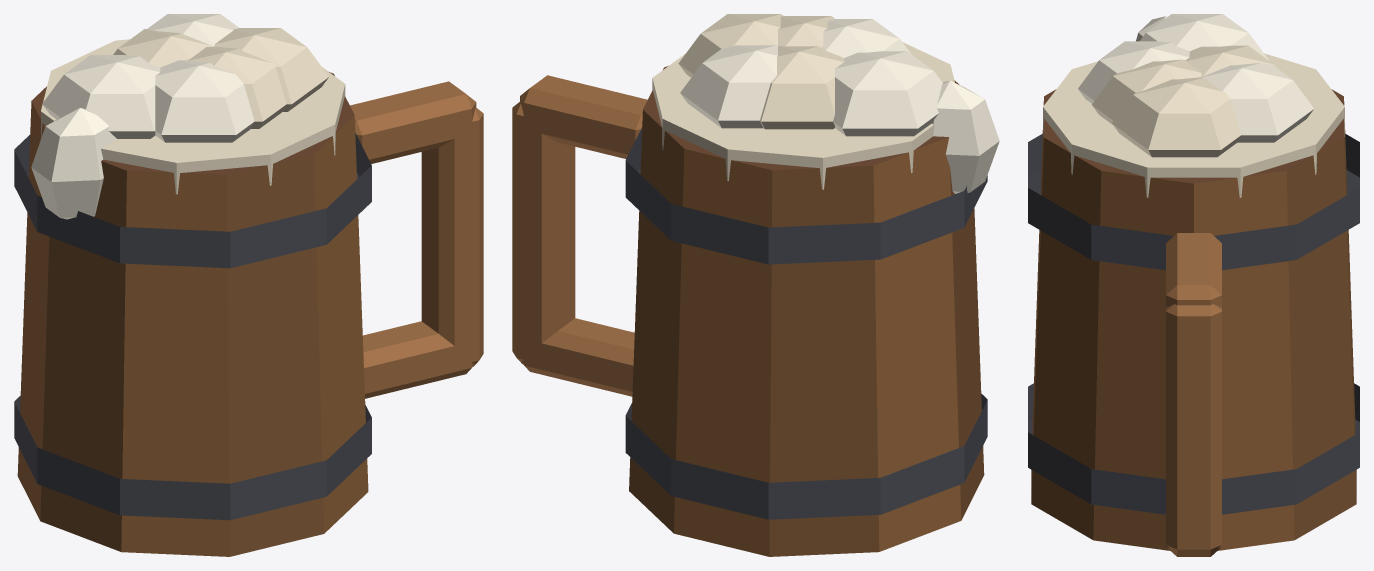
The model's file is tankard.glb.
3 views of the same model, side by side, from view 1: azimuth 30°, elevation 25°; view 2: azimuth 150°, elevation 25°; view 3: azimuth 270°, elevation 25° (orthographic). The views are drawn at different scales.
Visible parts, largest first — view 1: Wood, Drink, Iron; view 2: Wood, Drink, Iron; view 3: Wood, Drink, Iron.
Part boxes in pixels (box(x1,y1,x2,y2)): Wood: box(17, 72, 483, 556); Drink: box(31, 14, 345, 219); Iron: box(14, 133, 371, 520); Wood: box(512, 65, 984, 556); Drink: box(652, 14, 999, 193); Iron: box(625, 127, 987, 519); Wood: box(1031, 89, 1356, 556); Drink: box(1043, 14, 1344, 197); Iron: box(1028, 134, 1359, 514).
Size of the model in its own units: 0.8979 by 0.84 by 0.5935.
Materials: 3 (3 with a texture image).
